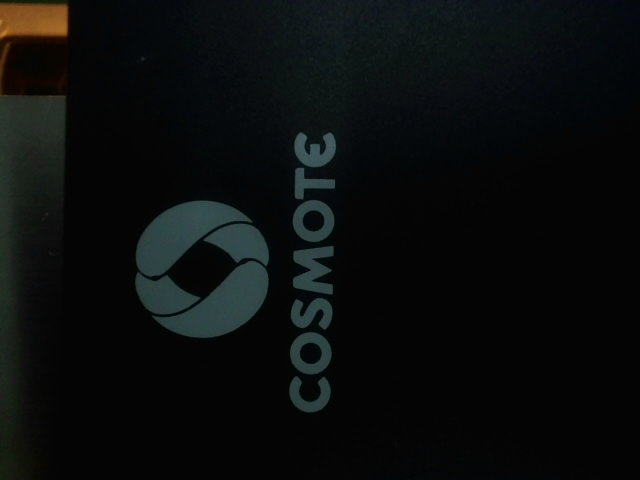AU_COSMOTE: (126, 120, 351, 415)
